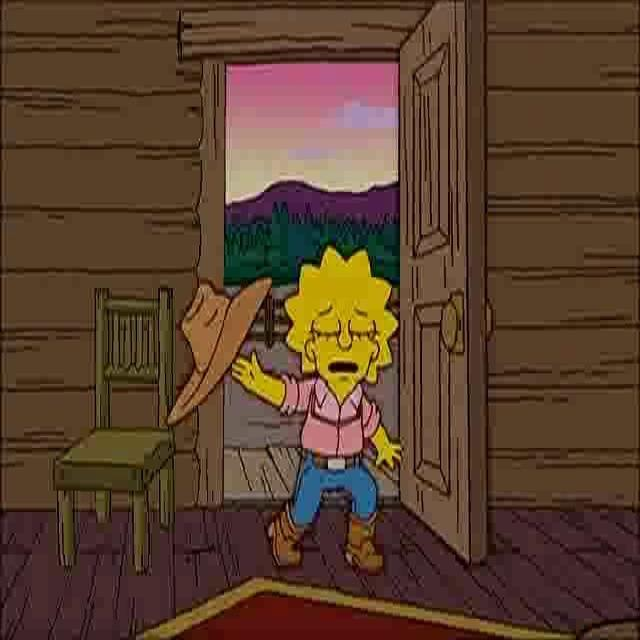Lisa Simpson: (283, 247, 399, 401)
